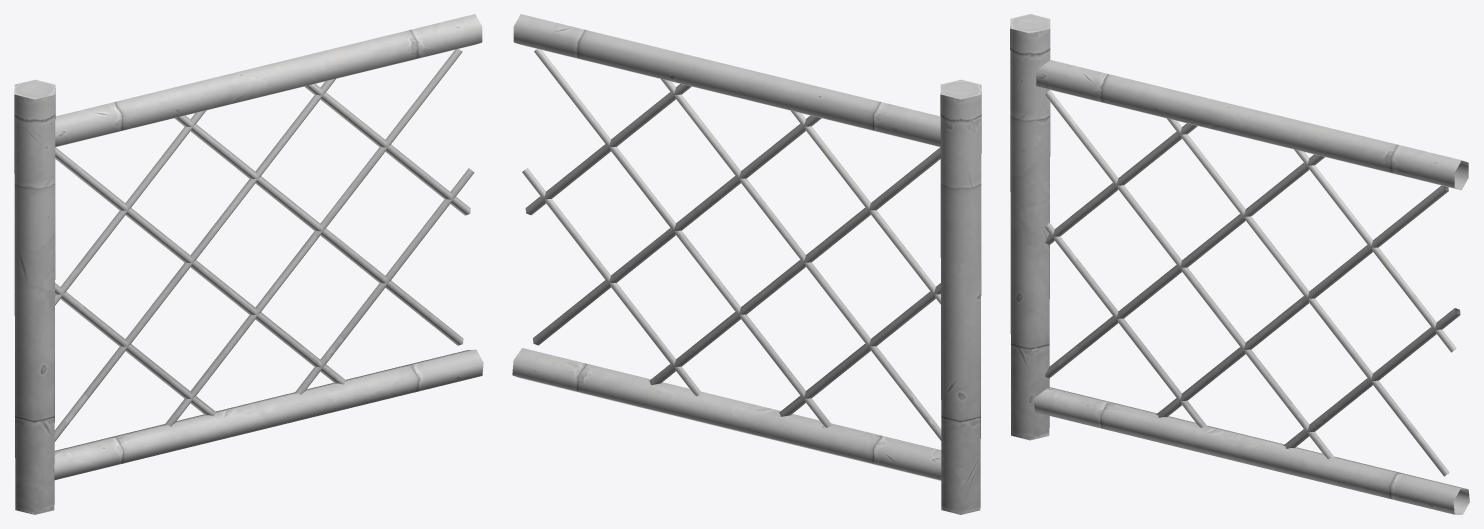
Rendered from Pfb_BarbedWire.fbx.
3 views of the same model, side by side, from view 1: azimuth 30°, elevation 25°; view 2: azimuth 150°, elevation 25°; view 3: azimuth 330°, elevation 25° (orthographic). The views are drawn at different scales.
Parts seen in each view (by area): view 1: Mat_BarbedWire_01; view 2: Mat_BarbedWire_01; view 3: Mat_BarbedWire_01.
Boxes of the visible parts, <box> form: Mat_BarbedWire_01: <box>14,14,483,514</box>; Mat_BarbedWire_01: <box>512,14,981,514</box>; Mat_BarbedWire_01: <box>1010,14,1469,514</box>.
Bounding box in the file's own units: 2.32 × 2 × 0.179.
Materials: 1 (1 with a texture image).
